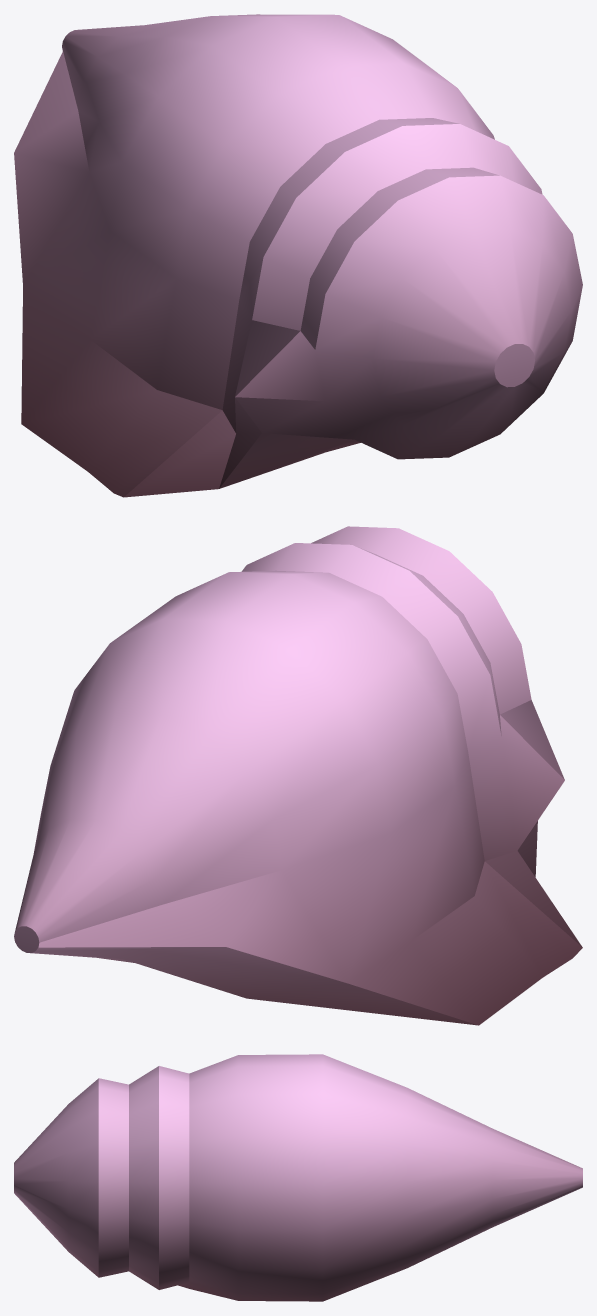
Rendered from Conch.glb.
3 views of the same model, one above another, from view 1: azimuth 30°, elevation 25°; view 2: azimuth 150°, elevation 25°; view 3: azimuth 270°, elevation 25° (orthographic). The views are drawn at different scales.
Visible parts, largest first — view 1: Conch; view 2: Conch; view 3: Conch.
Boxes of the visible parts, <box> form: Conch: <box>14,14,582,497</box>; Conch: <box>14,526,582,1025</box>; Conch: <box>14,1054,582,1301</box>.
Size of the model in its own units: 0.4245 by 0.334 by 0.768.
1 material, 1 textured.
